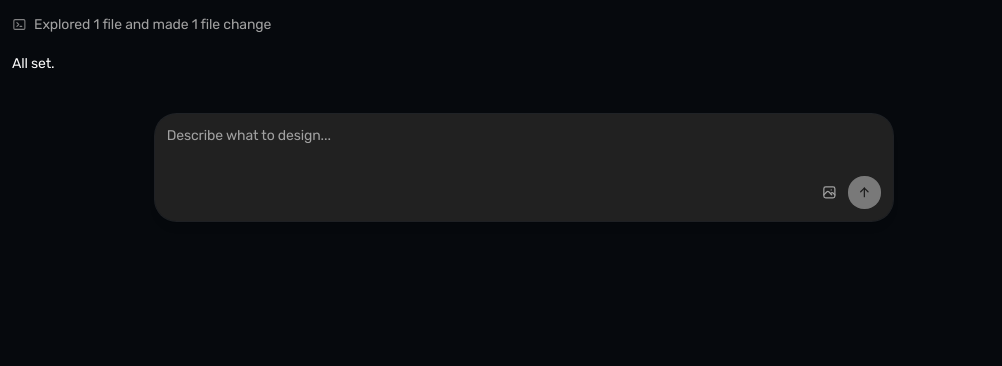
Test: AssistantMessage work group integration › mounts the work group ahead of the final response and reveals rows in store order
This screenshot has width=1002, height=366.
Expected: the text "All set." is shown, [12, 56, 54, 72]
Expected: the text "First I inspect the project." is not shown
Click the button "Explored 1 file and made 1 file change": (153, 24) [12, 12, 985, 38]
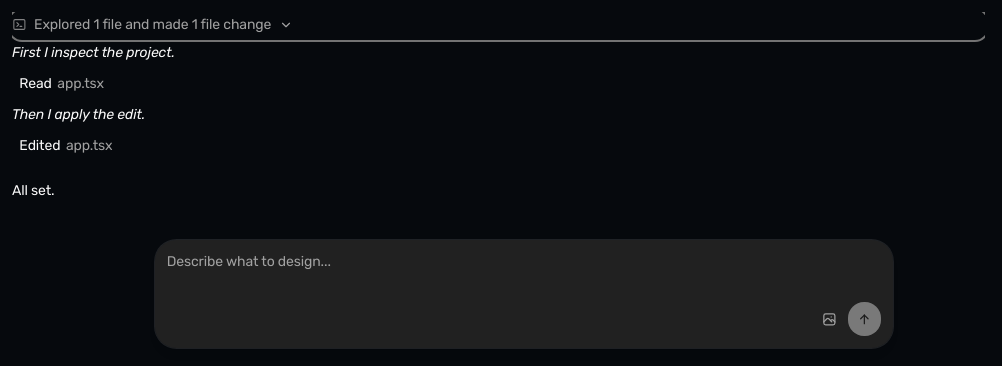
Expected: the text "First I inspect the project." is shown, [12, 44, 175, 61]
Expected: the text "Then I apply the edit." is shown, [12, 106, 145, 123]
